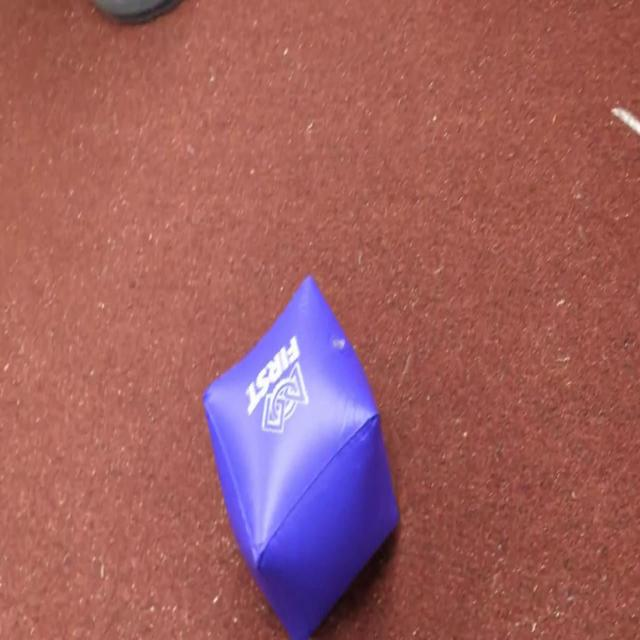frc_cube: (200, 275, 400, 640)
